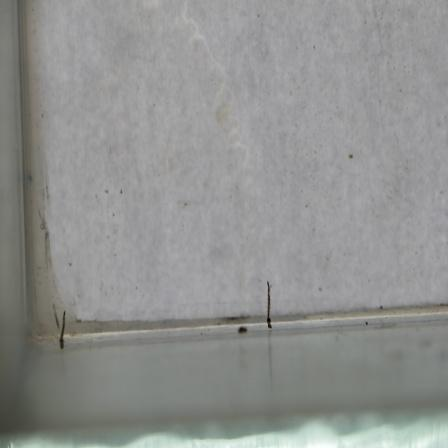Jentik-Nyamuk: (262, 276, 277, 333), (55, 308, 68, 353)
